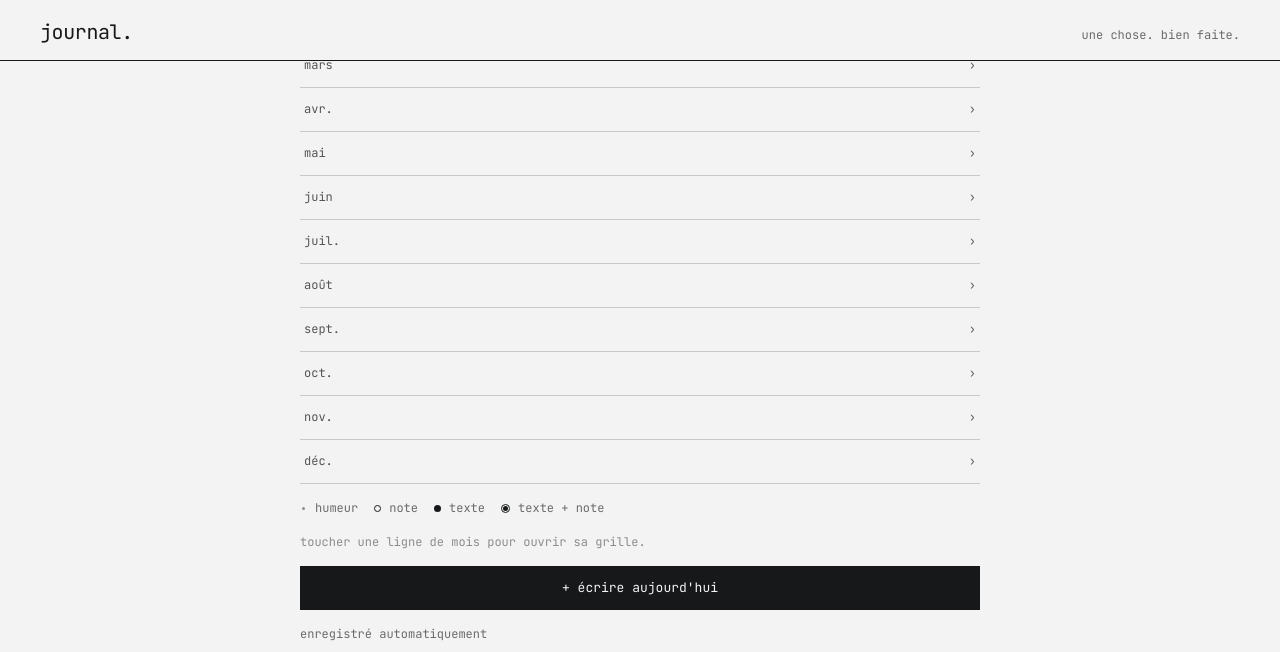
JournalApp › écrit une journée et l’enregistre aussitôt, avec son heure
(page scrolled)
Step 1. Click the button "+ écrire aujourd'hui" → (640, 588), box [300,566,980,610]
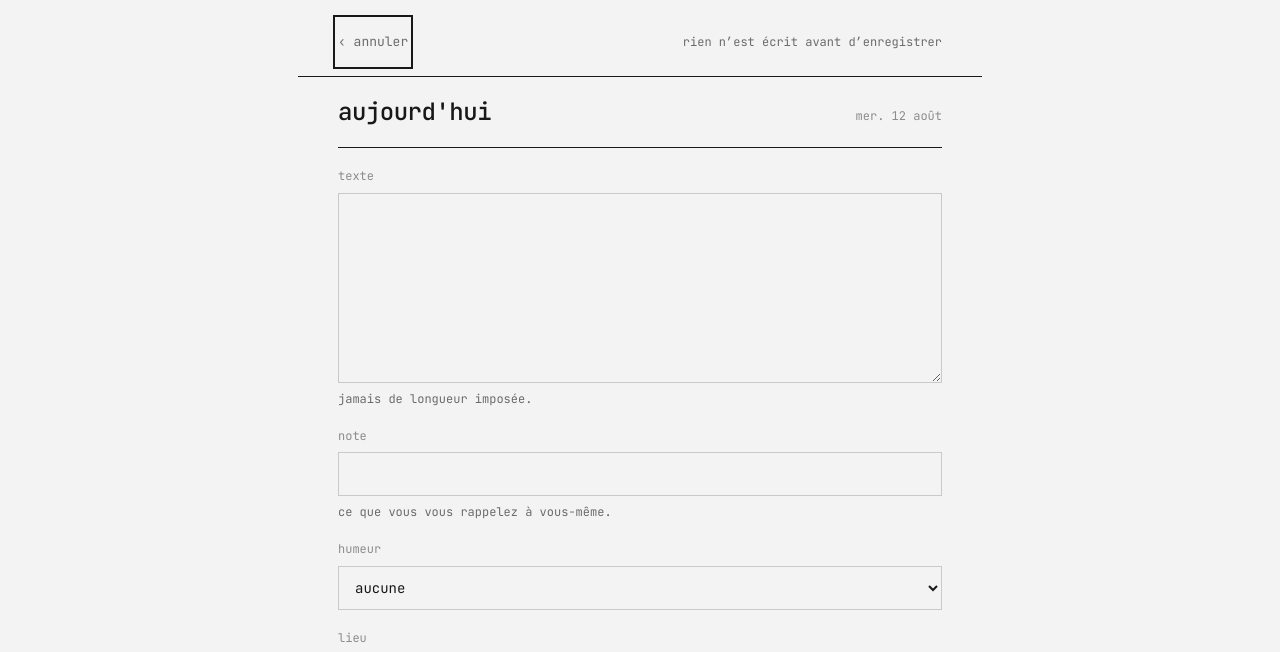
Step 2. Type "trois mots ici" into the text box labelled "texte" → (640, 288), box [338,193,942,383]
(page scrolled)
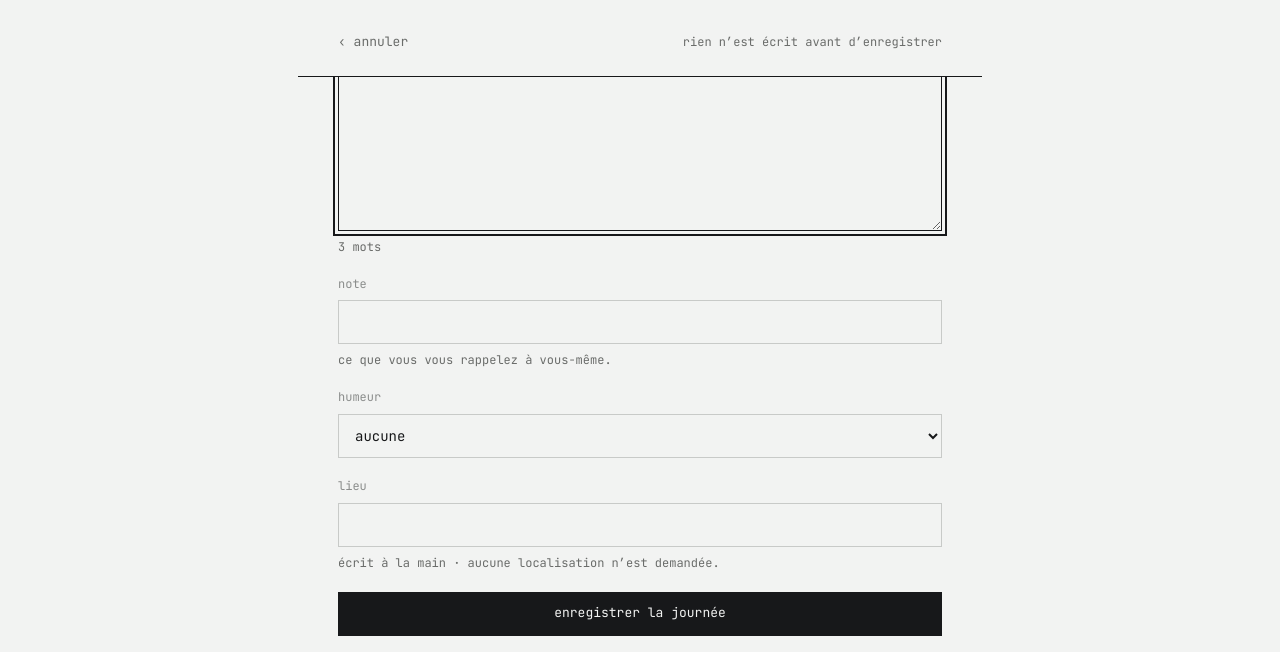
Step 3. Click the button "enregistrer la journée" → (640, 614), box [338,592,942,636]
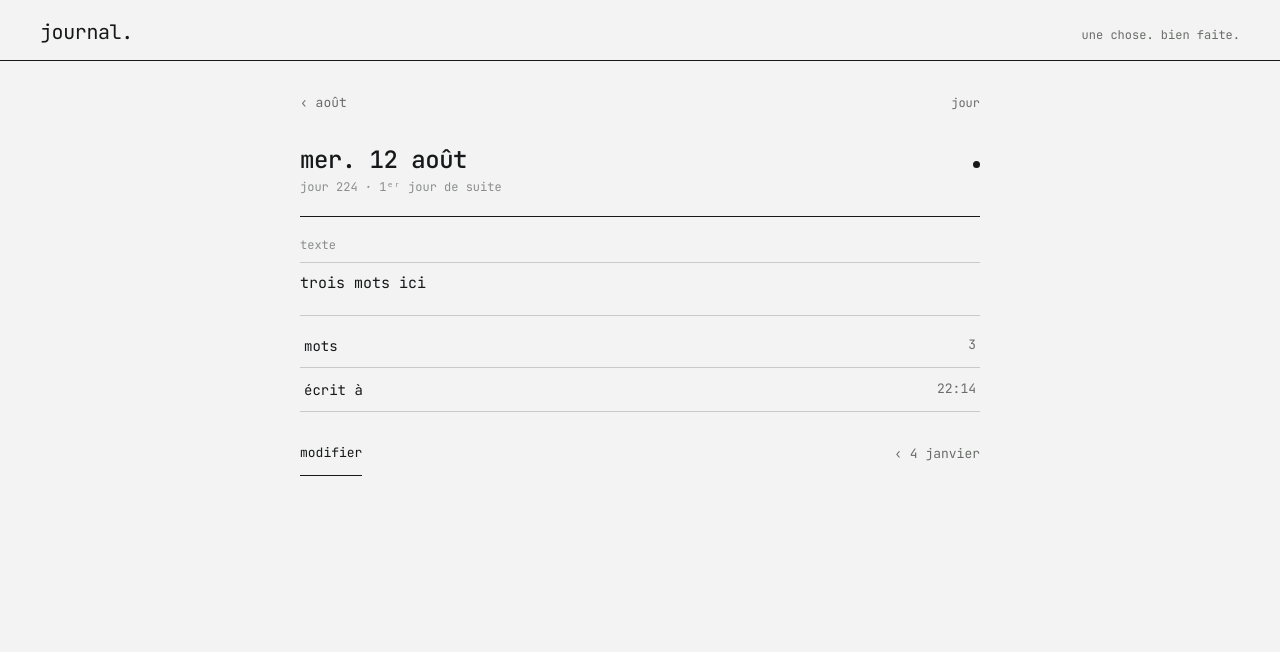
Expected: the text "trois mots ici" is shown, [300,273,426,293]
Expected: the text "mots" is shown, [304,336,338,356]
